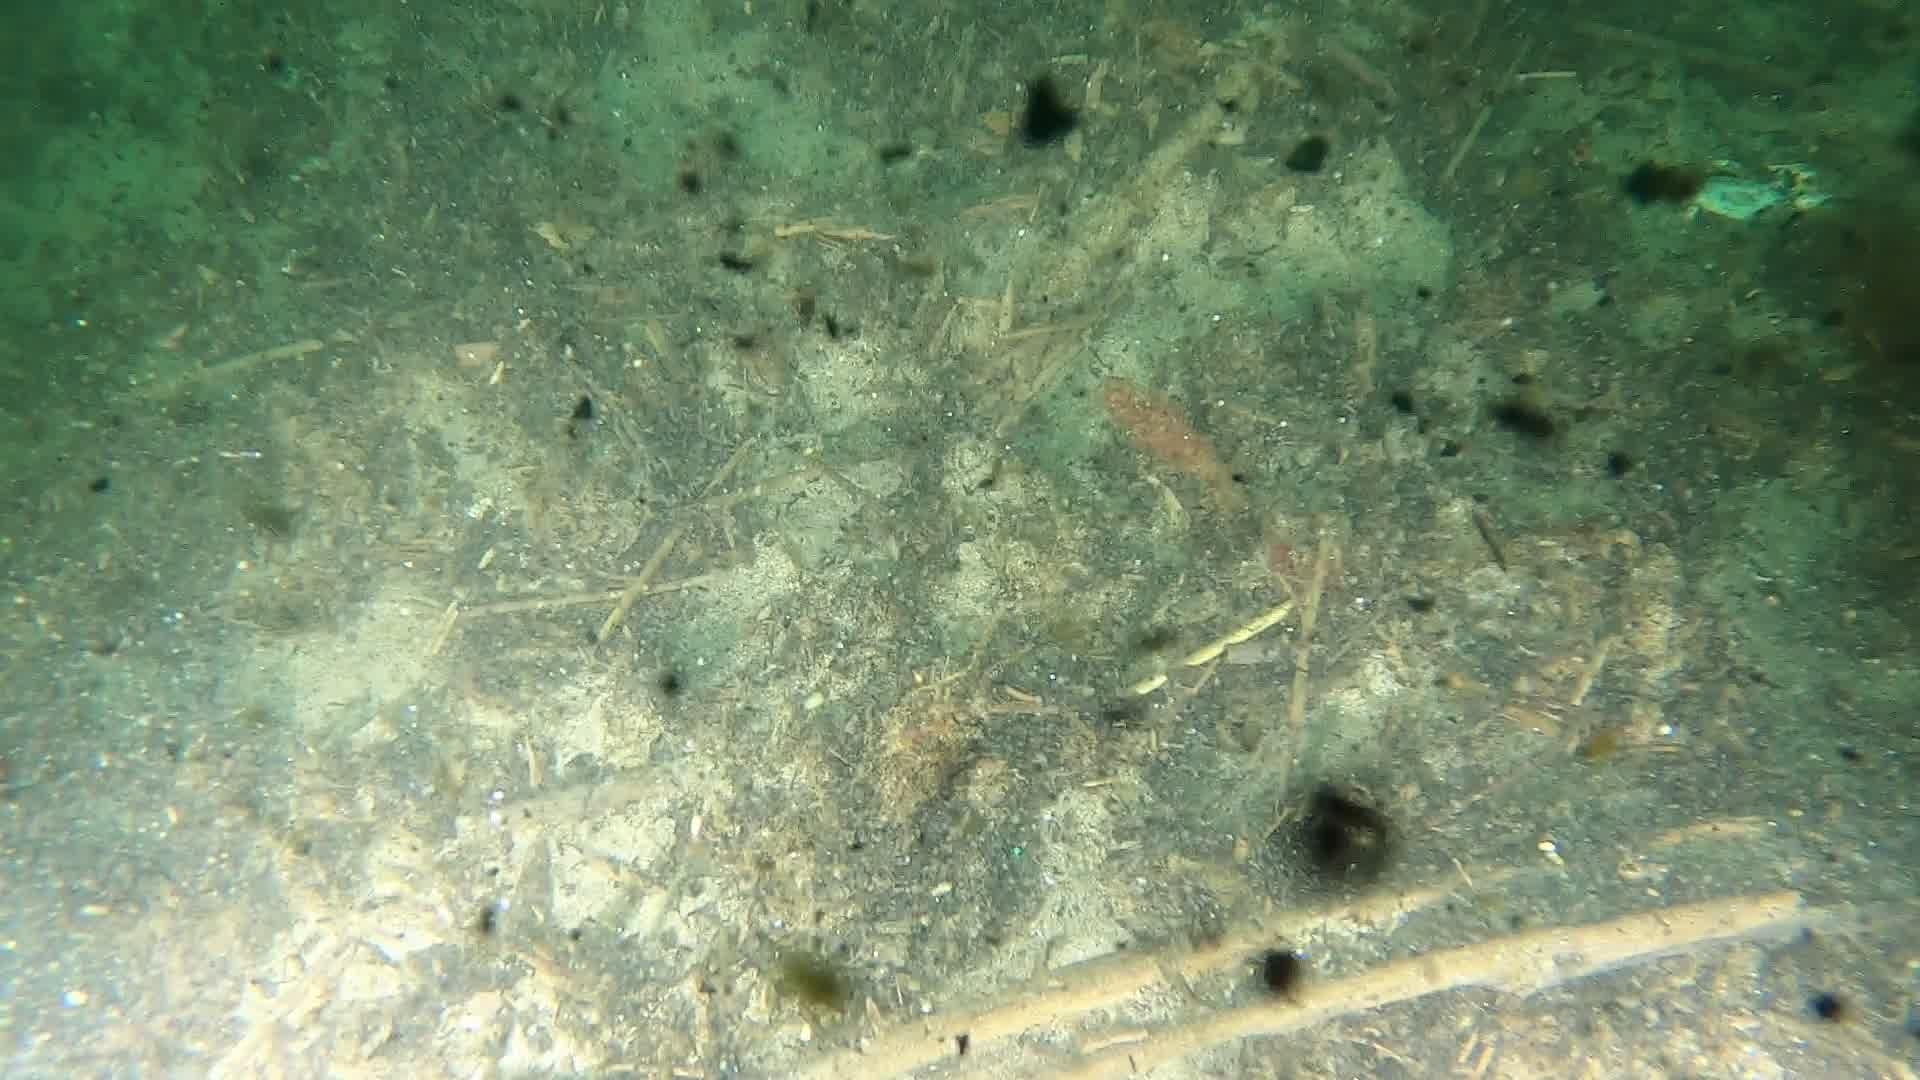wood: (790, 882, 1807, 1080)
